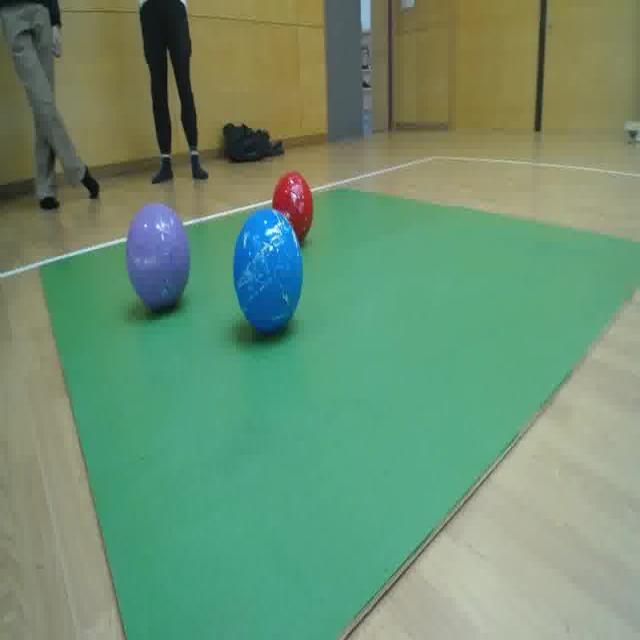blue_ball: (230, 202, 306, 342)
purple_ball: (124, 198, 197, 312)
red_ball: (273, 168, 314, 247)
